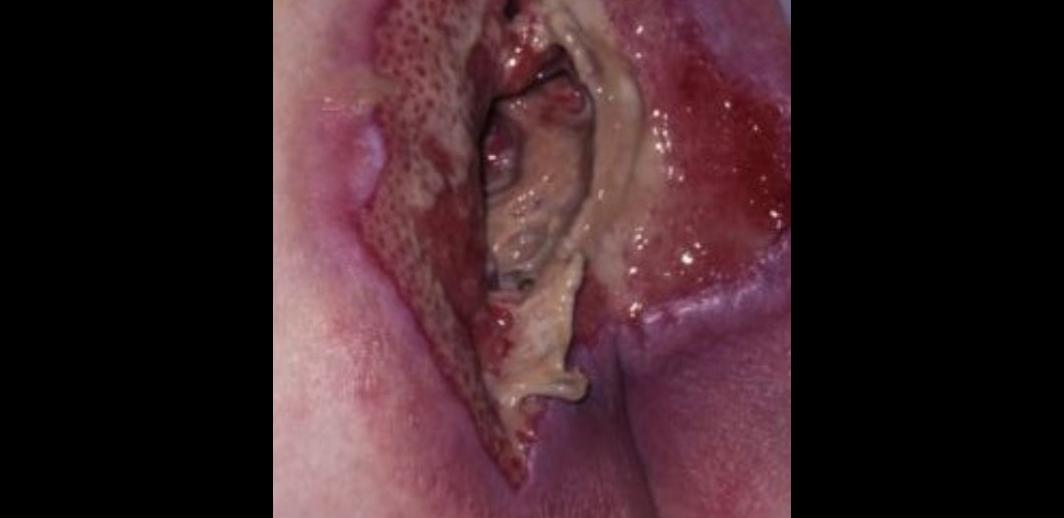Stage4: (273, 0, 775, 518)
